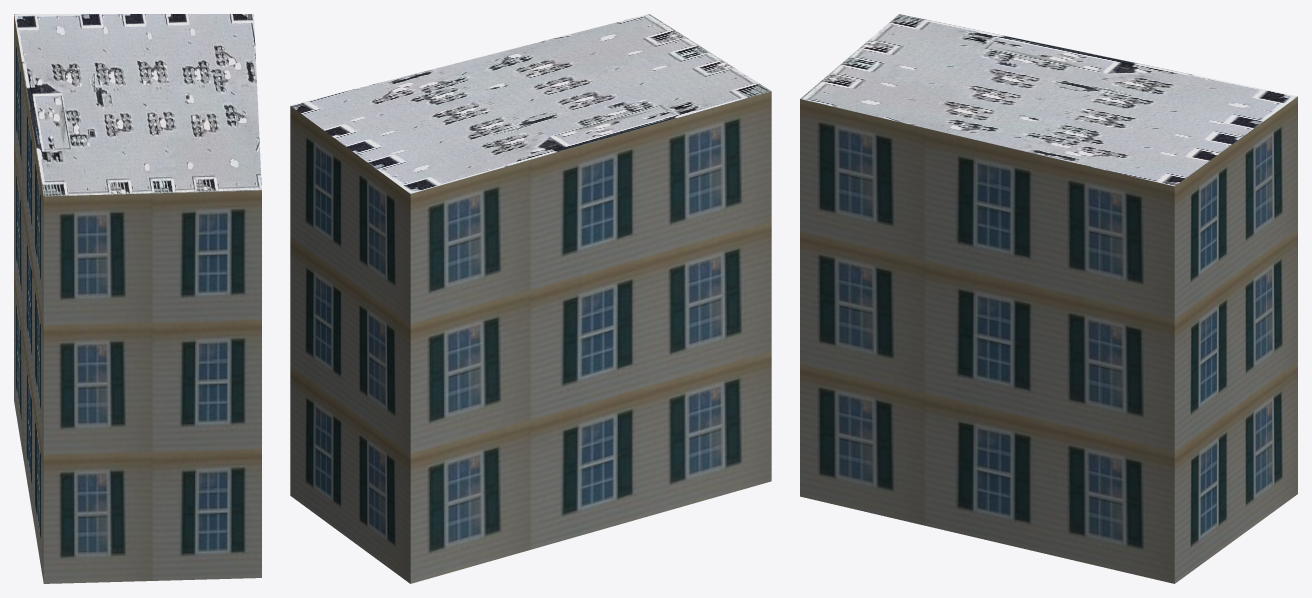
The model's file is ResTex__3589.fbx.
3 views of the same model, side by side, from view 1: azimuth 30°, elevation 25°; view 2: azimuth 150°, elevation 25°; view 3: azimuth 270°, elevation 25° (orthographic). The views are drawn at different scales.
Visible parts, largest first — view 1: CityEngineMaterial_7_m, CityEngineMaterial_4_m; view 2: CityEngineMaterial_7_m, CityEngineMaterial_4_m; view 3: CityEngineMaterial_7_m, CityEngineMaterial_4_m.
Boxes of the visible parts, x1=… form: CityEngineMaterial_7_m: x1=14, y1=14, x2=261, y2=583; CityEngineMaterial_4_m: x1=14, y1=14, x2=261, y2=196; CityEngineMaterial_7_m: x1=290, y1=91, x2=771, y2=583; CityEngineMaterial_4_m: x1=290, y1=14, x2=771, y2=193; CityEngineMaterial_7_m: x1=800, y1=96, x2=1297, y2=583; CityEngineMaterial_4_m: x1=800, y1=14, x2=1297, y2=186.
Bounding box in the file's own units: 8.37 × 9 × 10.22.
Materials: 2 (2 with a texture image).
